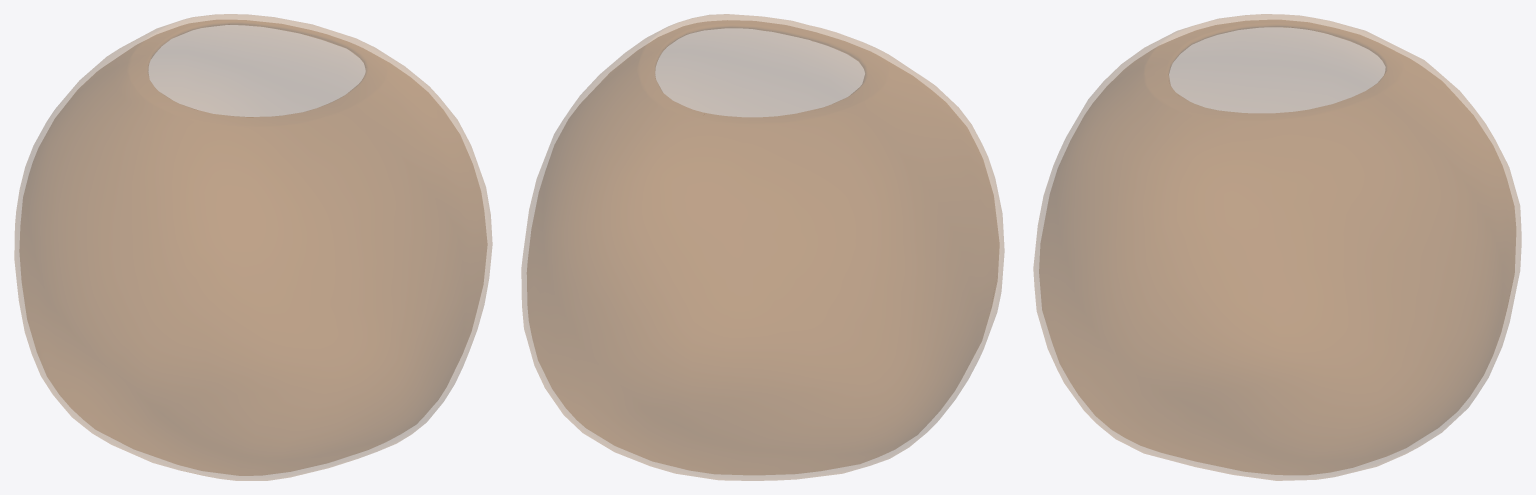
File: LB-VASE-01.glb
The picture shows the model from 3 angles, left to right: view 1: azimuth 30°, elevation 25°; view 2: azimuth 150°, elevation 25°; view 3: azimuth 270°, elevation 25°; orthographic projection.
Parts seen in each view (by area): view 1: ASY_ART_90590490_S01_NV01; view 2: ASY_ART_90590490_S01_NV01; view 3: ASY_ART_90590490_S01_NV01.
Part boxes in pixels (box(x1,y1,x2,y2)): ASY_ART_90590490_S01_NV01: box(14, 14, 492, 480); ASY_ART_90590490_S01_NV01: box(521, 14, 1004, 480); ASY_ART_90590490_S01_NV01: box(1033, 14, 1521, 480).
Bounding box in the file's own units: 0.241 × 0.1966 × 0.2433.
